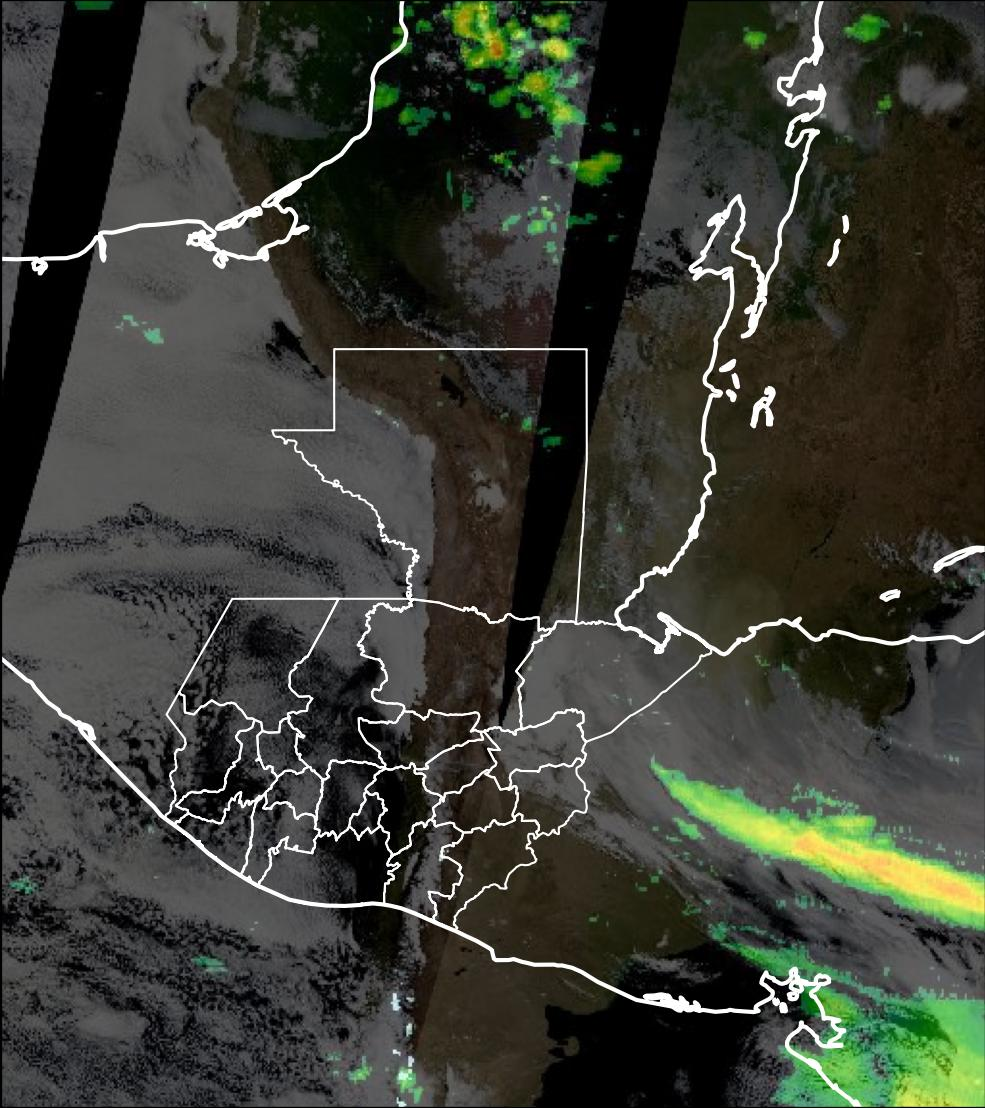precipitacion: (768, 799, 985, 934)
